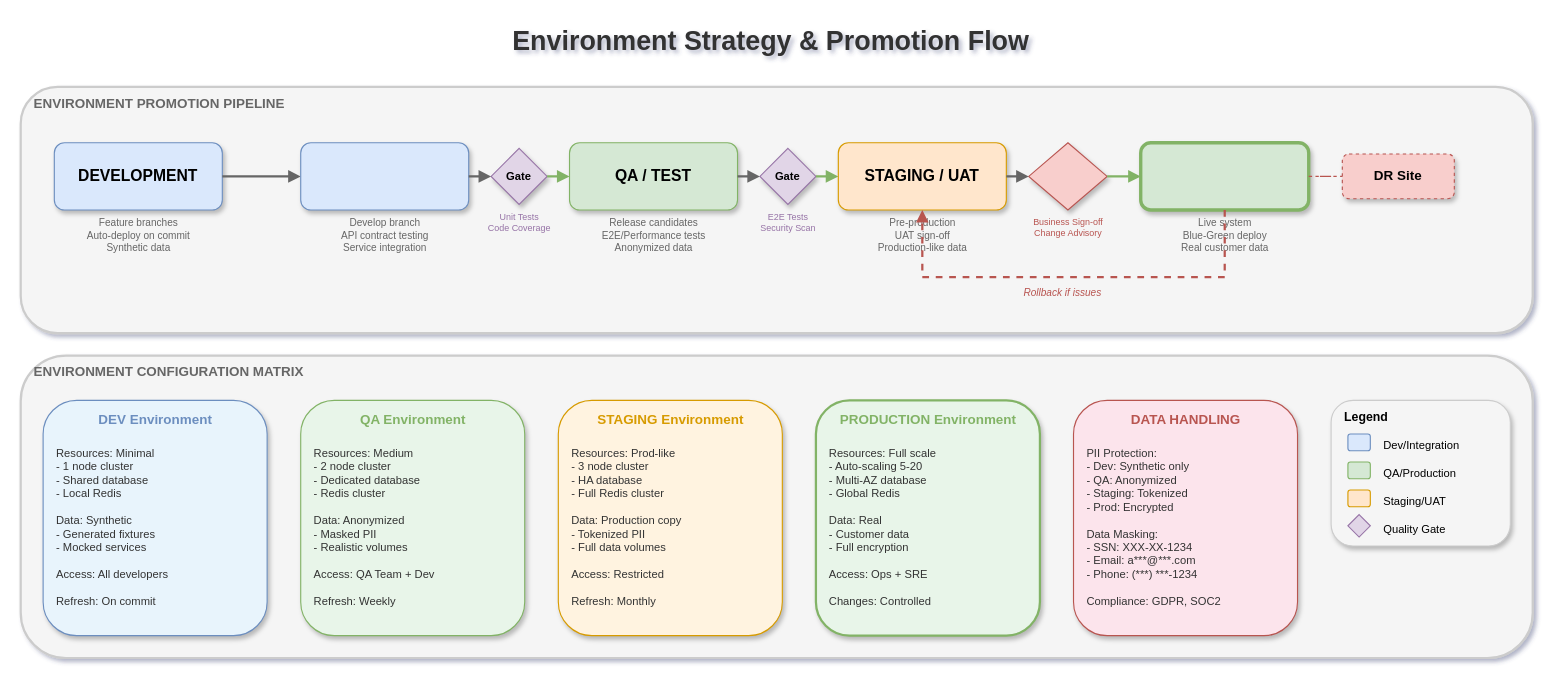
This 1559x684 diagram has some shape labels left out. Each missing label, with the centre of its shape:
INTEGRATION: the point at 385,177
Manual Approval: the point at 1068,177
PRODUCTION: the point at 1225,177
